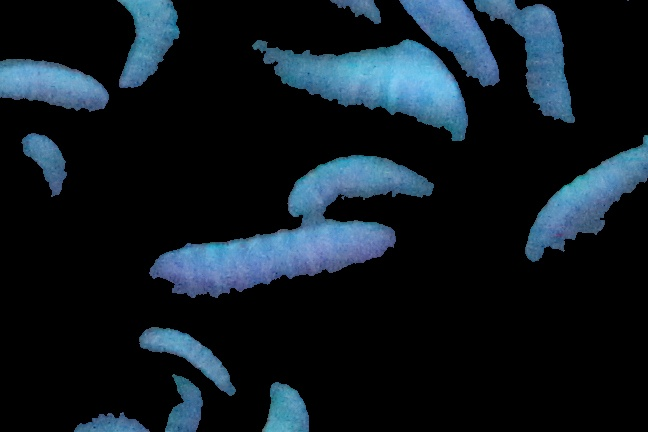larvae: (254, 44, 462, 132), (148, 220, 395, 291), (522, 137, 648, 258), (279, 155, 471, 215), (396, 1, 501, 86), (126, 325, 237, 396), (1, 60, 130, 116), (517, 10, 576, 129), (22, 132, 94, 220), (110, 1, 182, 80), (262, 375, 312, 432)
